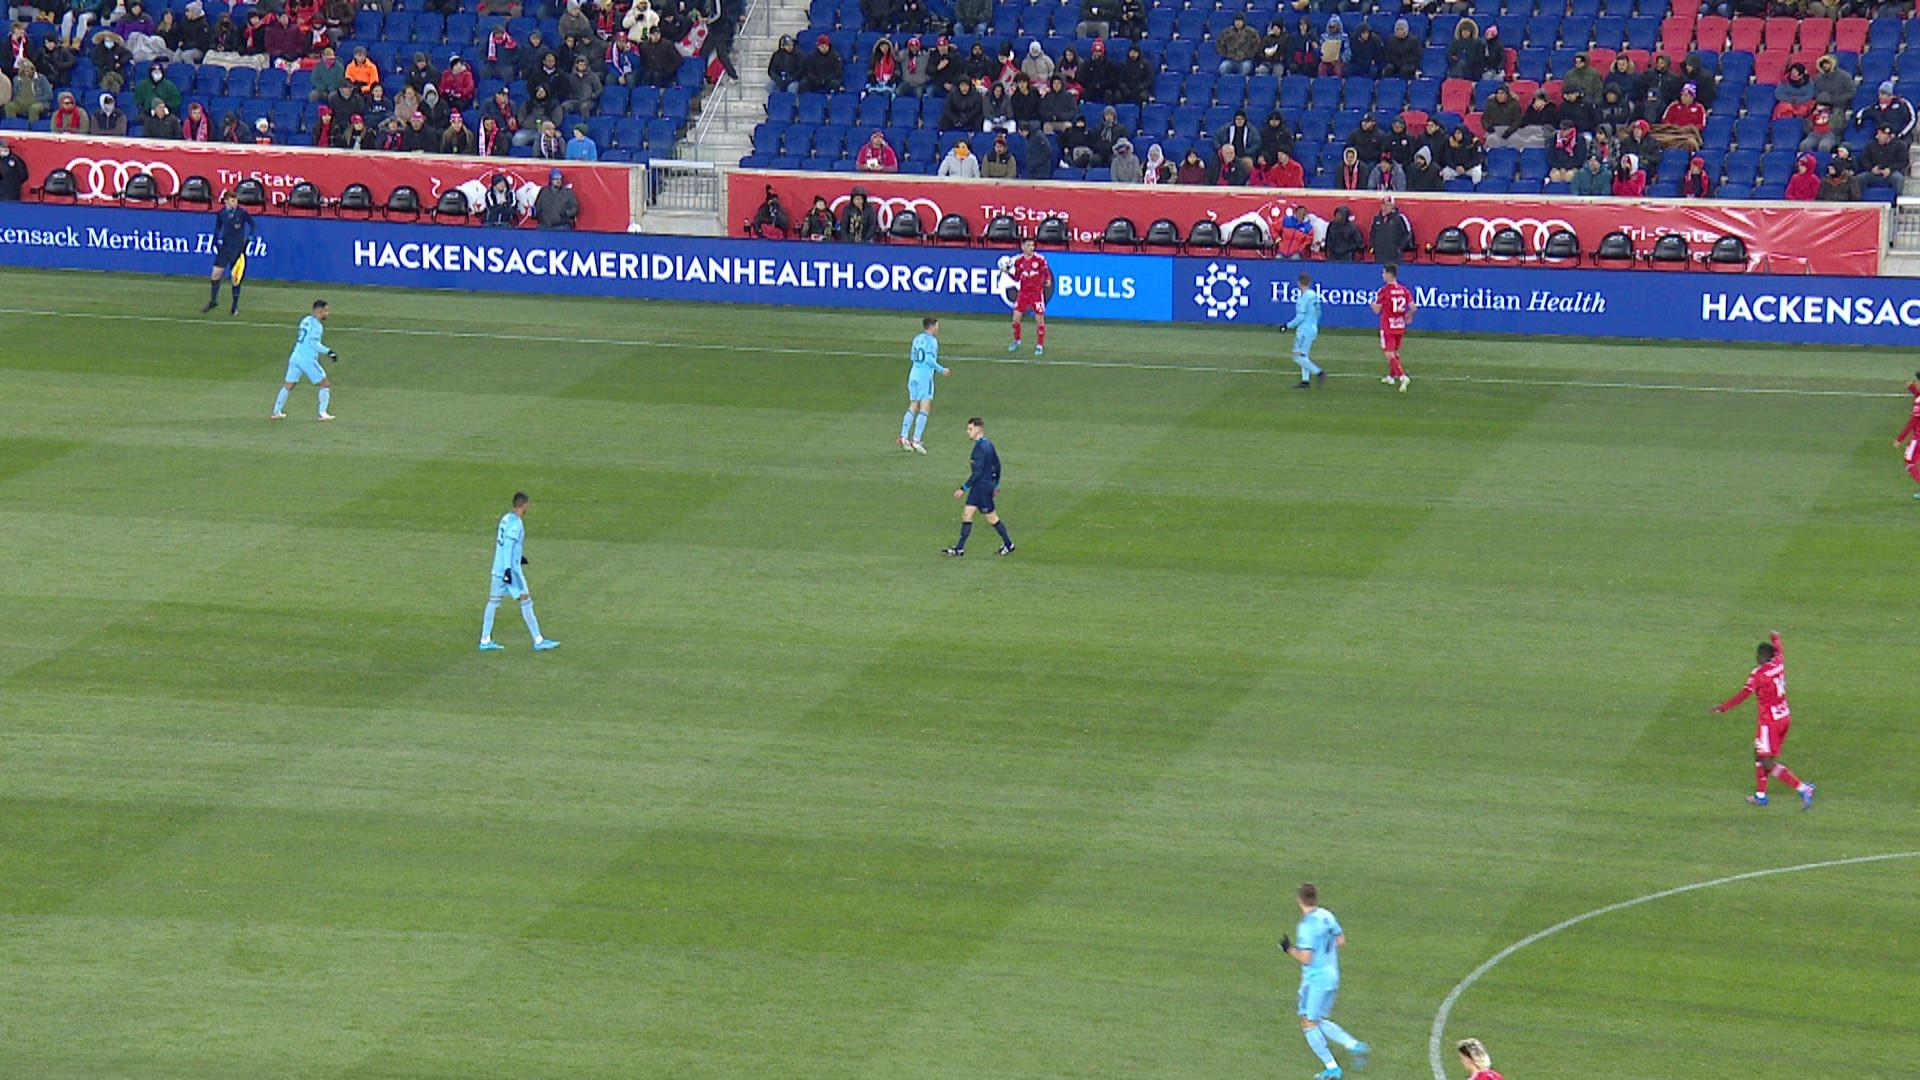football: (996, 255, 1013, 269)
